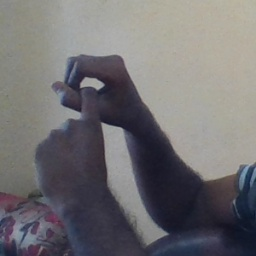Q: (28, 50, 142, 175)
